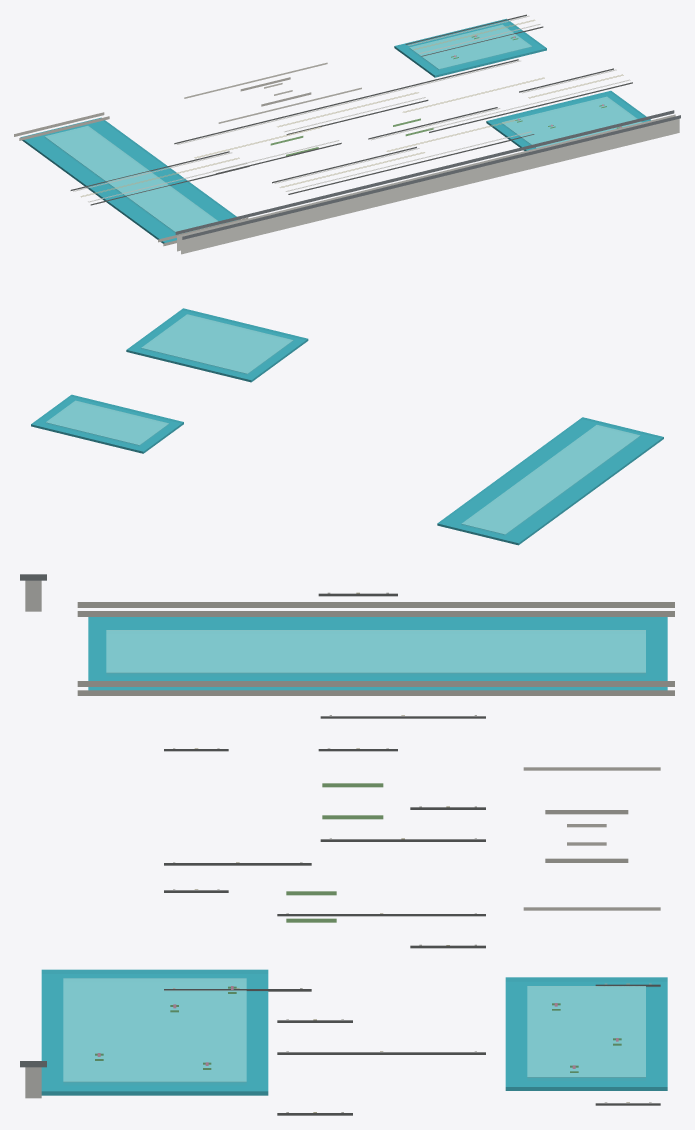
Rendered from voxel-shandong-horizontal-base.gltf.
The picture shows the model from 3 angles, top to bottom: view 1: azimuth 30°, elevation 25°; view 2: azimuth 150°, elevation 25°; view 3: azimuth 270°, elevation 25°; orthographic projection. The views are drawn at different scales.
Bounding box in the file's own units: 34.15 × 1.3 × 18.2.
